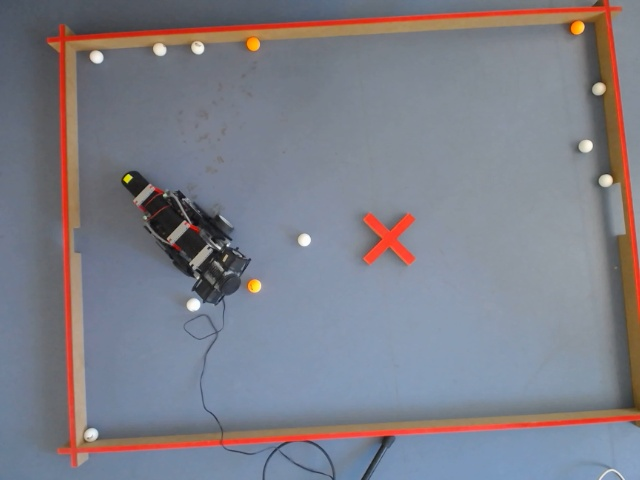orange: (569, 19, 588, 38), (246, 36, 261, 52), (247, 278, 262, 292)
robot: (120, 167, 247, 306)
white: (596, 171, 616, 191), (567, 19, 586, 39), (590, 80, 609, 99), (88, 48, 106, 67), (576, 138, 594, 156), (189, 39, 206, 57), (152, 41, 168, 58), (297, 232, 312, 248), (83, 427, 99, 442), (186, 296, 201, 312)
